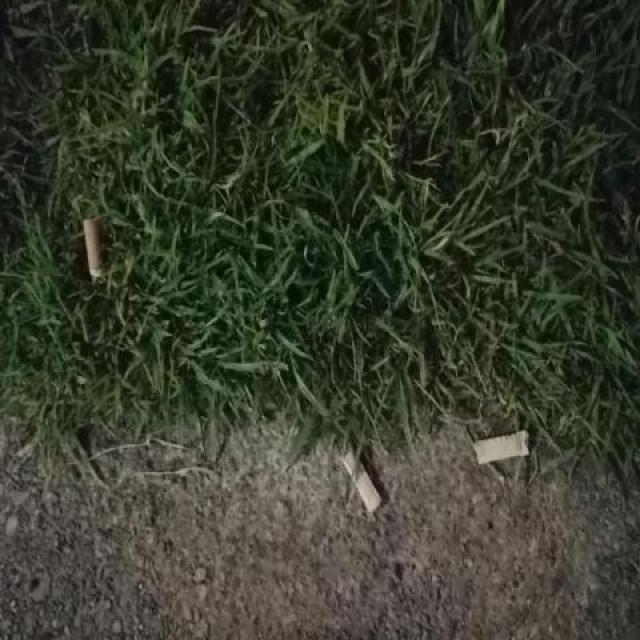non-organic waste: (340, 446, 388, 522), (471, 428, 533, 468), (80, 213, 112, 286)
